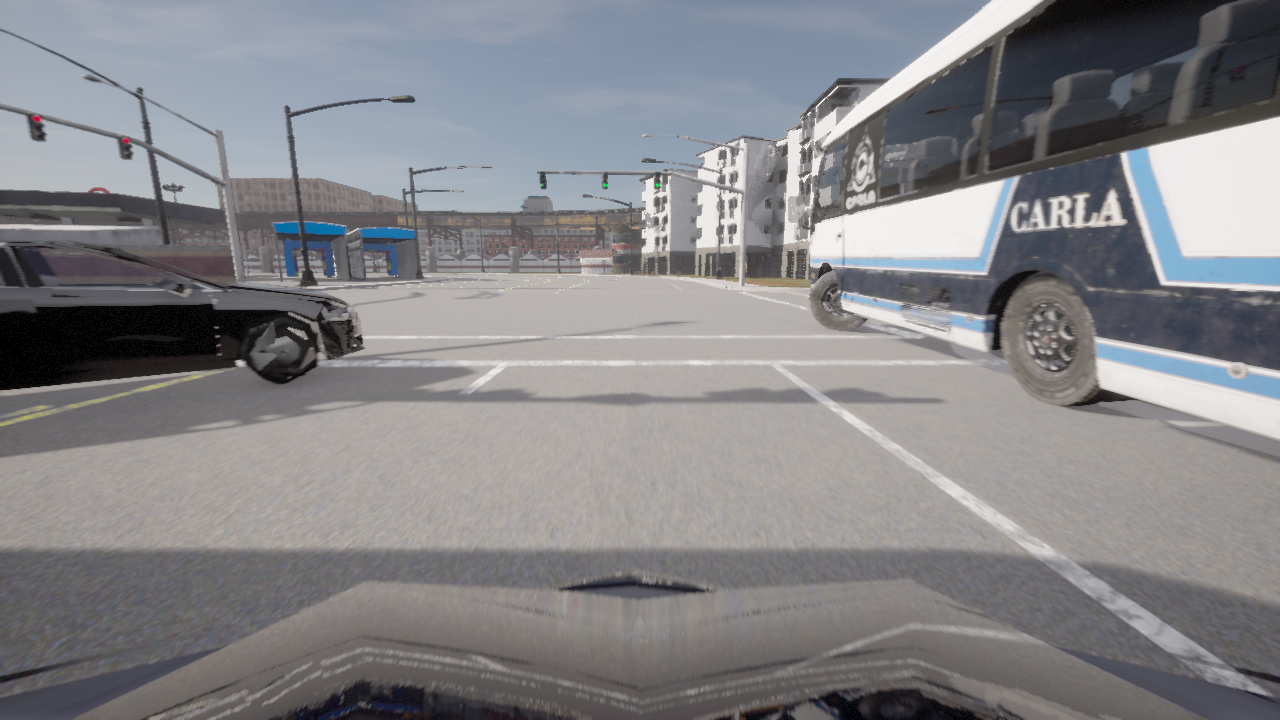cyclist: (789, 0, 1279, 439), (0, 569, 1279, 719)
